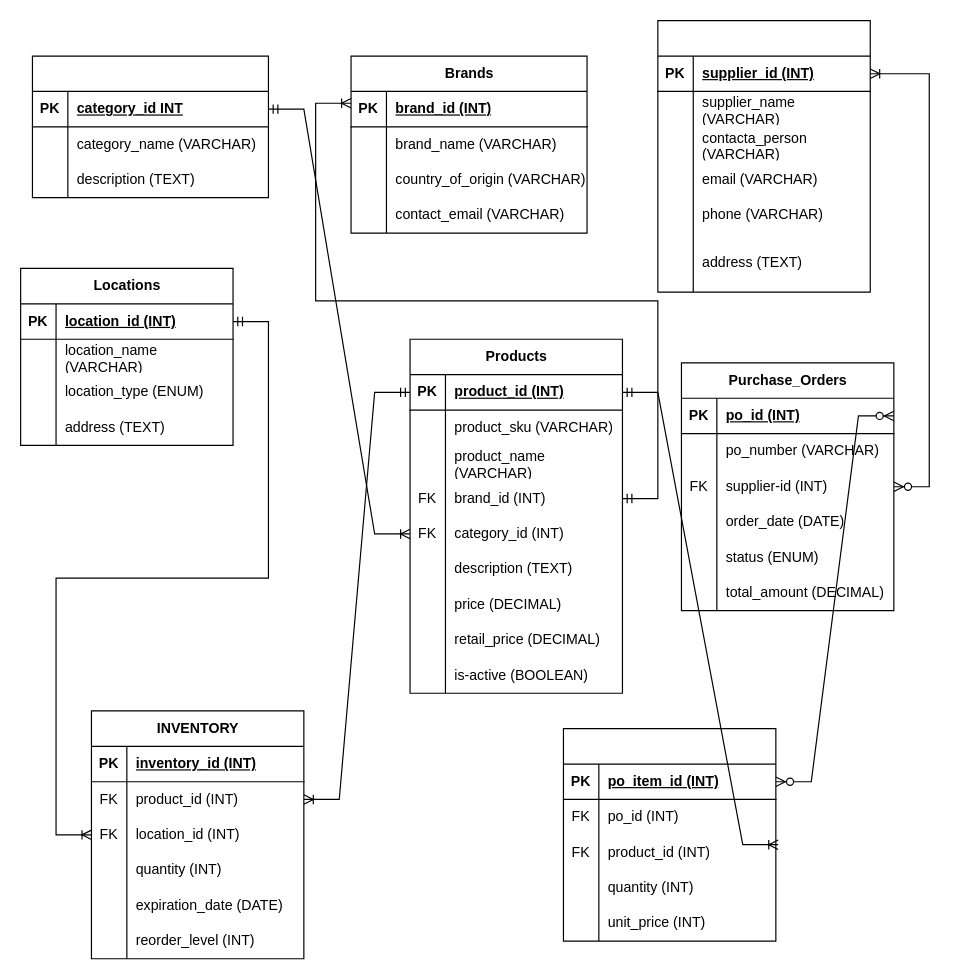
Image size: 961x979. Some labels were removed from this diagram. Each missing label, with the box of its shape:
Categories: (31, 55, 268, 198)
PO_ITEMS: (562, 727, 776, 941)
Suppliers: (657, 19, 870, 292)
